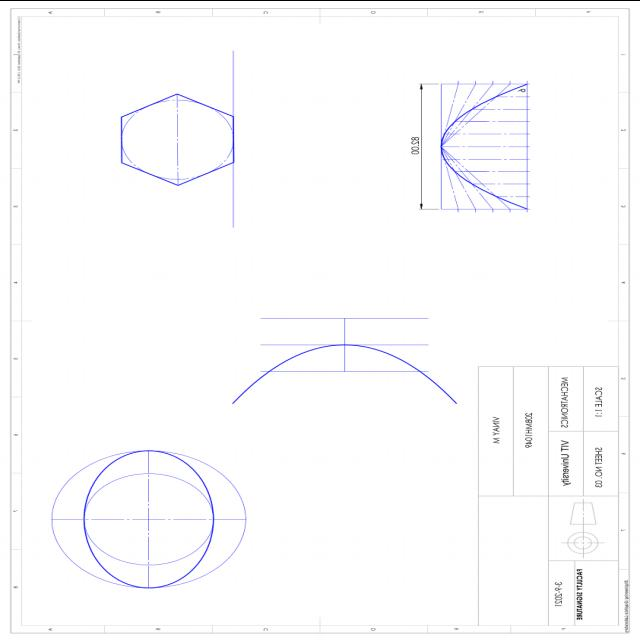Drawings: (44, 442, 256, 594), (222, 308, 469, 416), (406, 78, 536, 214), (109, 85, 243, 192)
